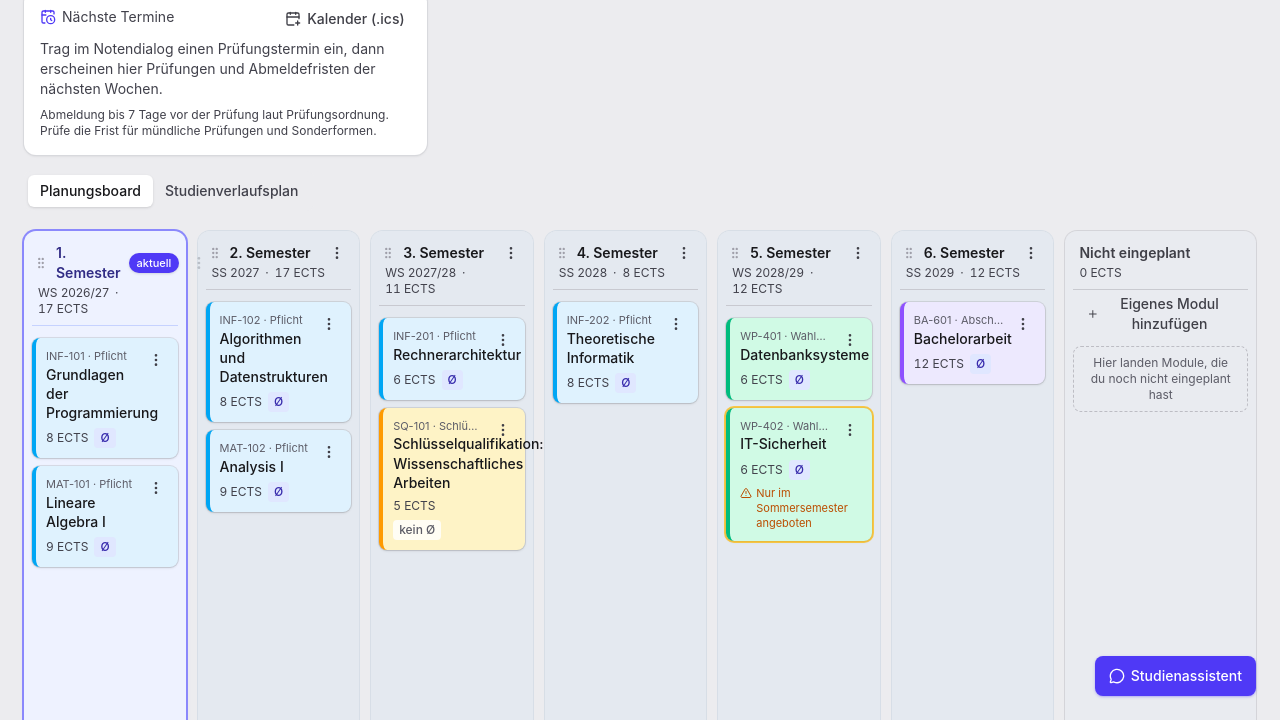
Test: clicking a module card › opens only the menu when the menu button is clicked
(page scrolled)
Click the button named "Aktionen für Grundlagen der Programmierung" at (156, 360), box [140,344,172,376]
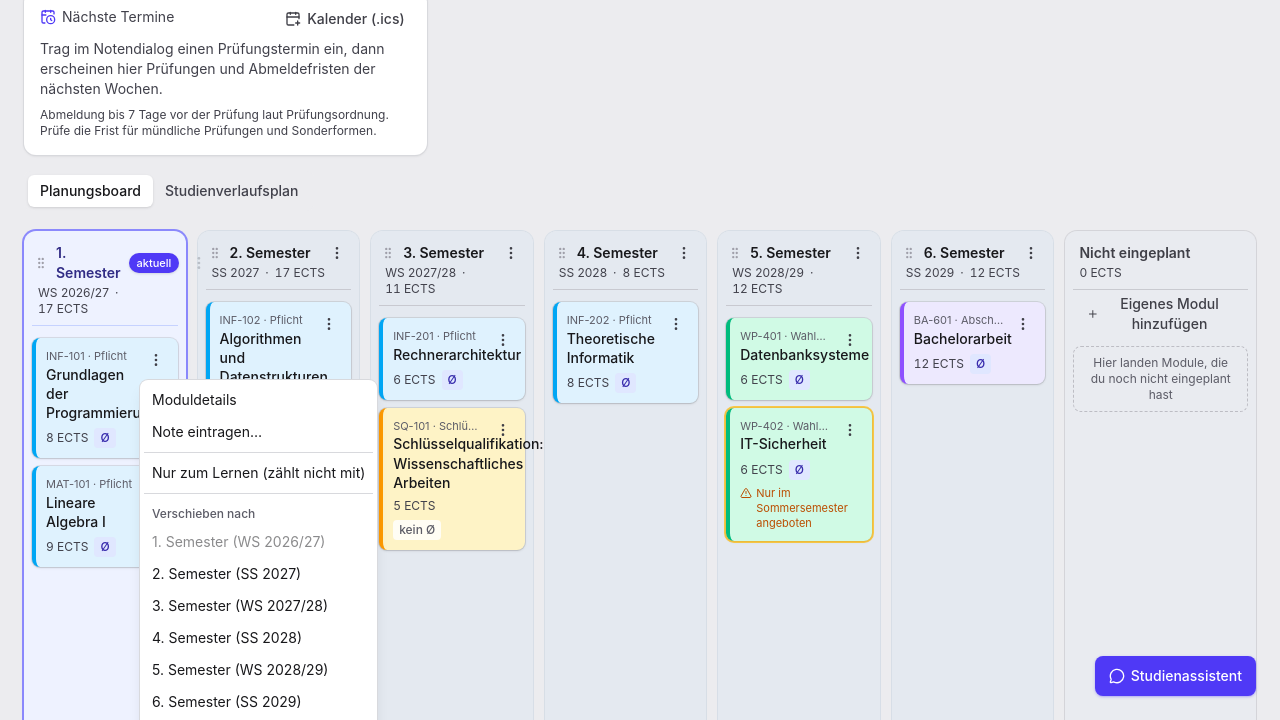
Now the menu item "Moduldetails" is shown, box [152,391,237,408]
